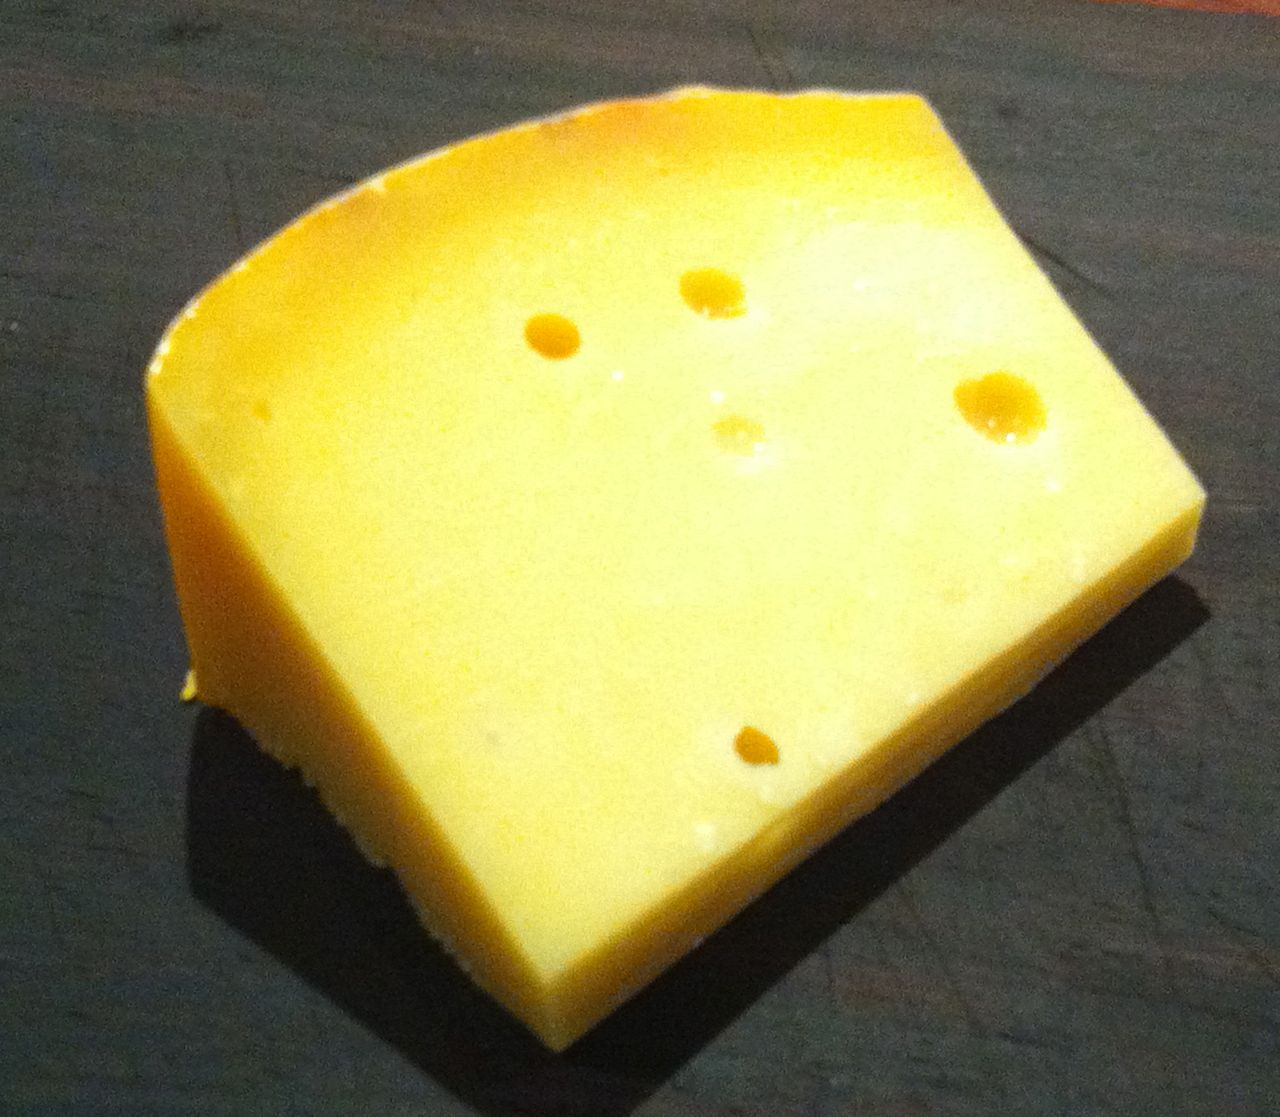cheese: (121, 78, 1241, 1028)
